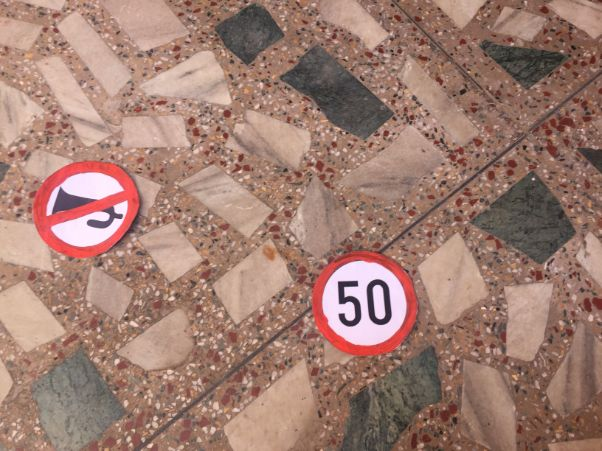no-horn: (34, 161, 142, 258)
speed-50: (310, 251, 420, 360)
